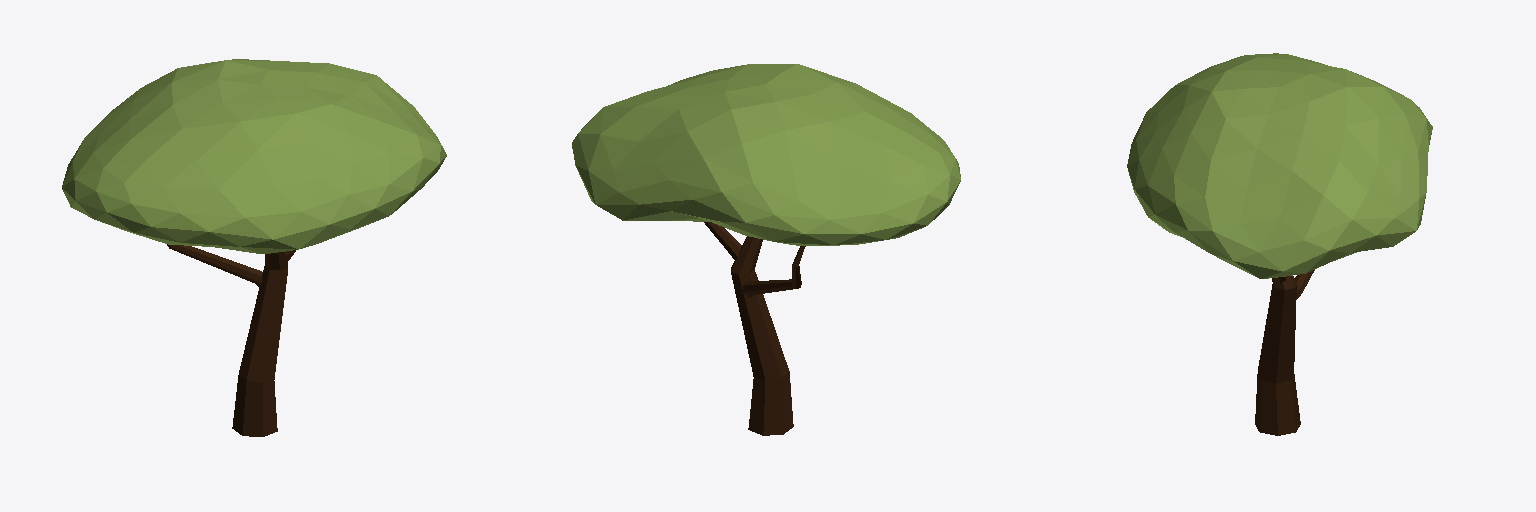
Rendered from desert_tree.obj.
The picture shows the model from 3 angles: view 1: azimuth 30°, elevation 25°; view 2: azimuth 150°, elevation 25°; view 3: azimuth 270°, elevation 25°; orthographic projection.
Bounding box in the file's own units: 13.39 × 12.16 × 9.87.